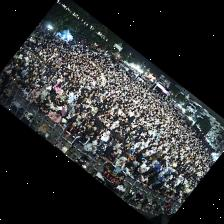person: (68, 132, 90, 150), (134, 162, 150, 179), (127, 146, 142, 162), (133, 152, 148, 167), (102, 150, 116, 163), (65, 122, 76, 138), (84, 141, 97, 154), (106, 144, 120, 156), (153, 174, 168, 185), (76, 120, 88, 133), (48, 111, 61, 123), (114, 157, 126, 170), (123, 162, 133, 177), (67, 90, 78, 103), (39, 101, 50, 114), (119, 150, 130, 162), (64, 109, 74, 122), (139, 174, 148, 188), (152, 183, 163, 194), (100, 131, 110, 143), (87, 125, 97, 137), (95, 144, 104, 157), (16, 78, 25, 90), (58, 103, 66, 116), (165, 189, 175, 199), (51, 94, 60, 105), (90, 134, 99, 145), (67, 100, 76, 111), (41, 88, 49, 100), (23, 85, 31, 97), (49, 102, 57, 113), (53, 82, 61, 93), (73, 115, 81, 126), (32, 86, 39, 98), (3, 65, 11, 75), (44, 95, 52, 105), (26, 94, 34, 103), (11, 77, 20, 85), (58, 119, 66, 128), (59, 91, 66, 101), (27, 80, 34, 90), (9, 73, 18, 80), (111, 139, 120, 146), (97, 126, 104, 135), (24, 73, 29, 84), (172, 193, 178, 201)
